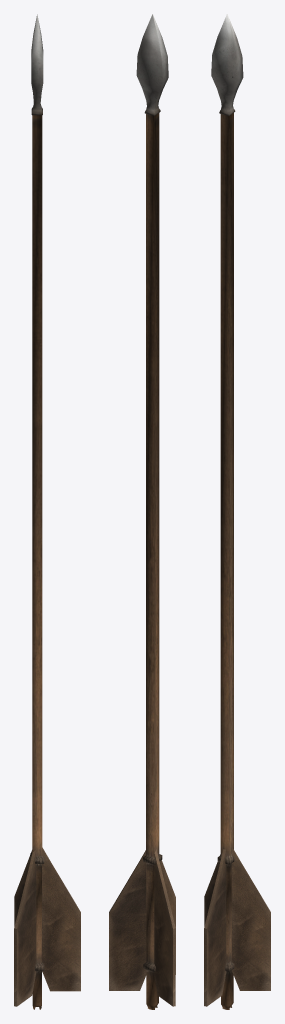
3 renders of one model, left to right at view 1: azimuth 90°, elevation 25°; view 2: azimuth 150°, elevation 25°; view 3: azimuth 330°, elevation 25°, orthographic.
Parts seen in each view (by area): view 1: Arrow; view 2: Arrow; view 3: Arrow.
Part boxes in pixels (x1,y1,x2,y2): Arrow: (14, 14, 80, 1009); Arrow: (109, 14, 175, 1009); Arrow: (204, 14, 270, 1009).
Size of the model in its own units: 0.0765 by 1.09 by 0.0663.
1 material, 1 textured.
